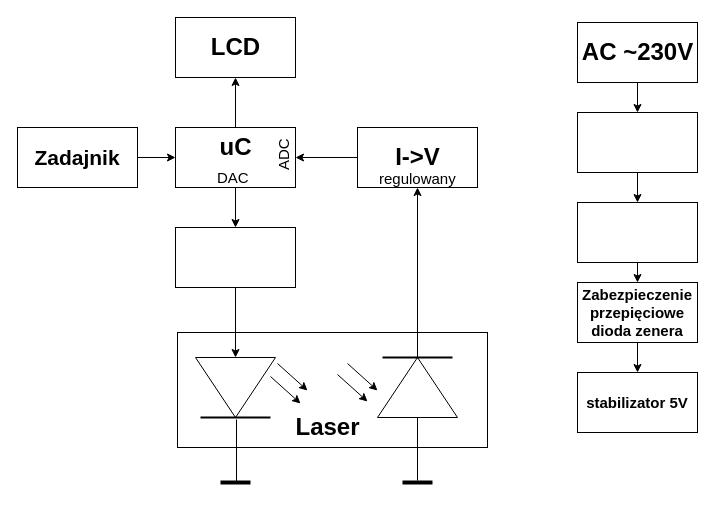
Some shapes in this 715 by 507 pixel diagram are drawn without their labels. Each missing label, with the centre of its shape:
"AC/AC" belongs at (637,142).
"Prostownik" belongs at (637,232).
"V->I z ograniczeniem I" belongs at (235,257).
